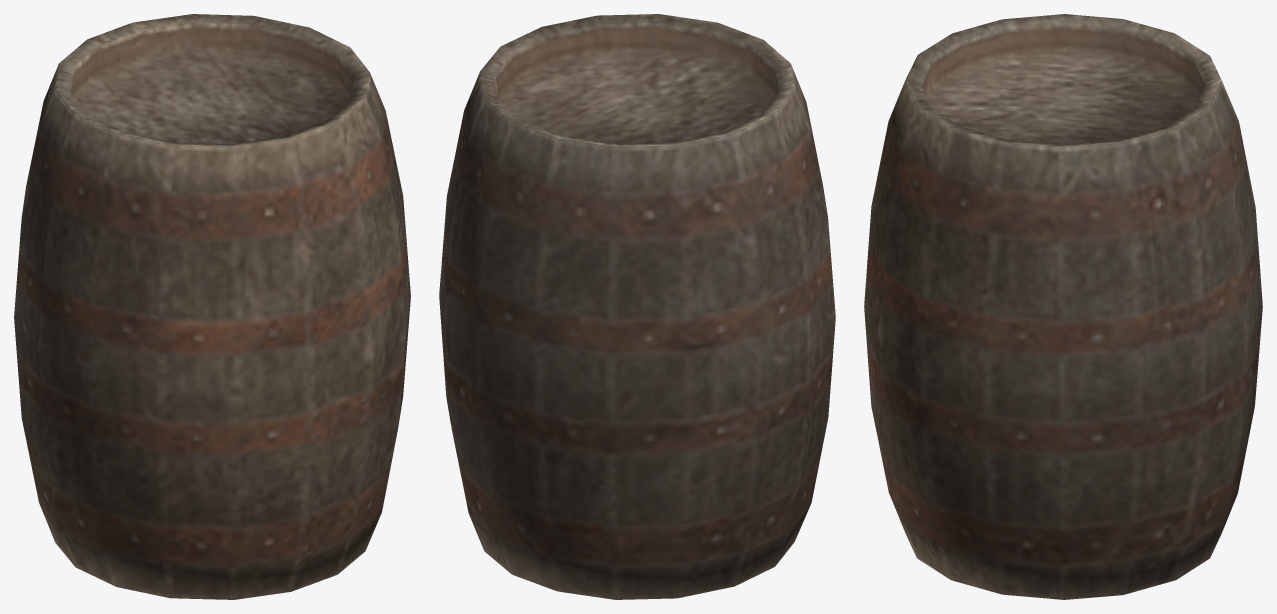
Rendered from Barrel.fbx.
The picture shows the model from 3 angles, left to right: view 1: azimuth 30°, elevation 25°; view 2: azimuth 150°, elevation 25°; view 3: azimuth 270°, elevation 25°; orthographic projection.
Parts seen in each view (by area): view 1: Barrel; view 2: Barrel; view 3: Barrel.
Part boxes in pixels (<box>): Barrel: <box>14,14,410,599</box>; Barrel: <box>439,14,835,599</box>; Barrel: <box>864,14,1262,599</box>.
Bounding box in the file's own units: 0.0251 × 0.0313 × 0.025.
Materials: 1 (1 with a texture image).
